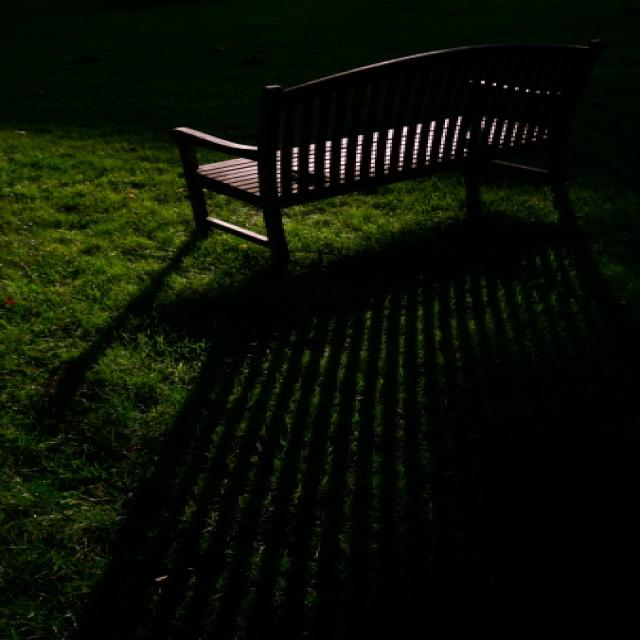chair: (180, 24, 629, 297)
